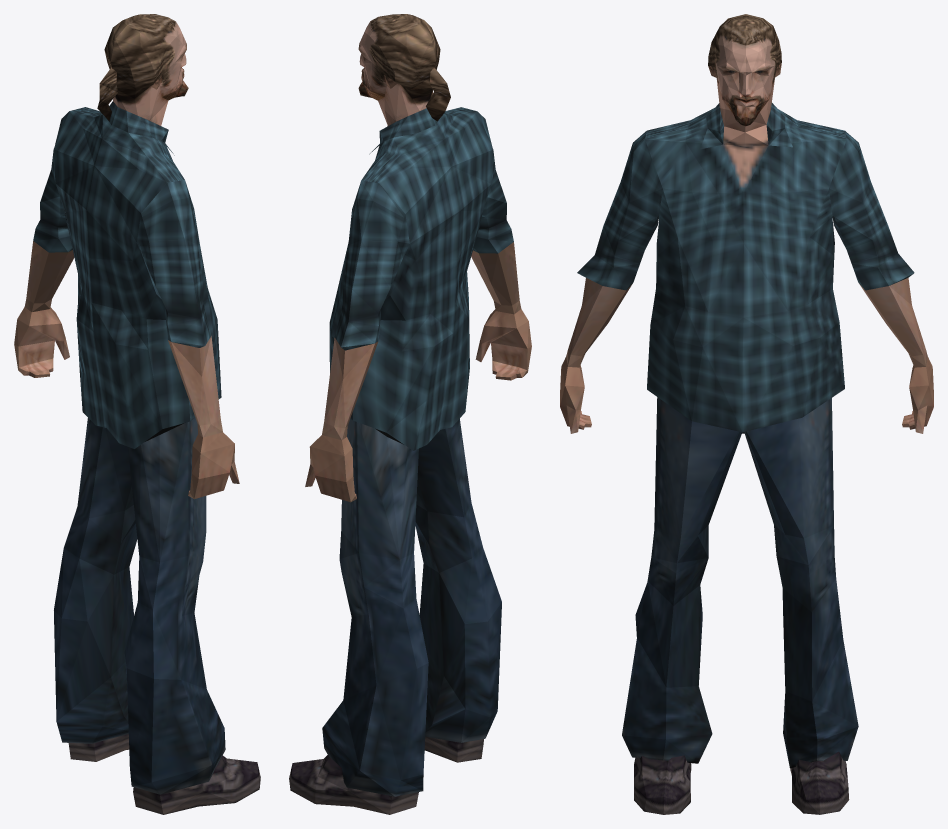
File: swmyhp1.obj
3 views of the same model, side by side, from view 1: azimuth 30°, elevation 25°; view 2: azimuth 150°, elevation 25°; view 3: azimuth 270°, elevation 25° (orthographic).
Parts seen in each view (by area): view 1: _Pelvis; view 2: _Pelvis; view 3: _Pelvis.
Boxes of the visible parts, x1,y1,x2,y2 form: _Pelvis: (14, 14, 260, 814); _Pelvis: (289, 14, 531, 814); _Pelvis: (560, 14, 933, 814).
Size of the model in its own units: 0.3376 by 1.82 by 0.8079.
Materials: 1 (1 with a texture image).
